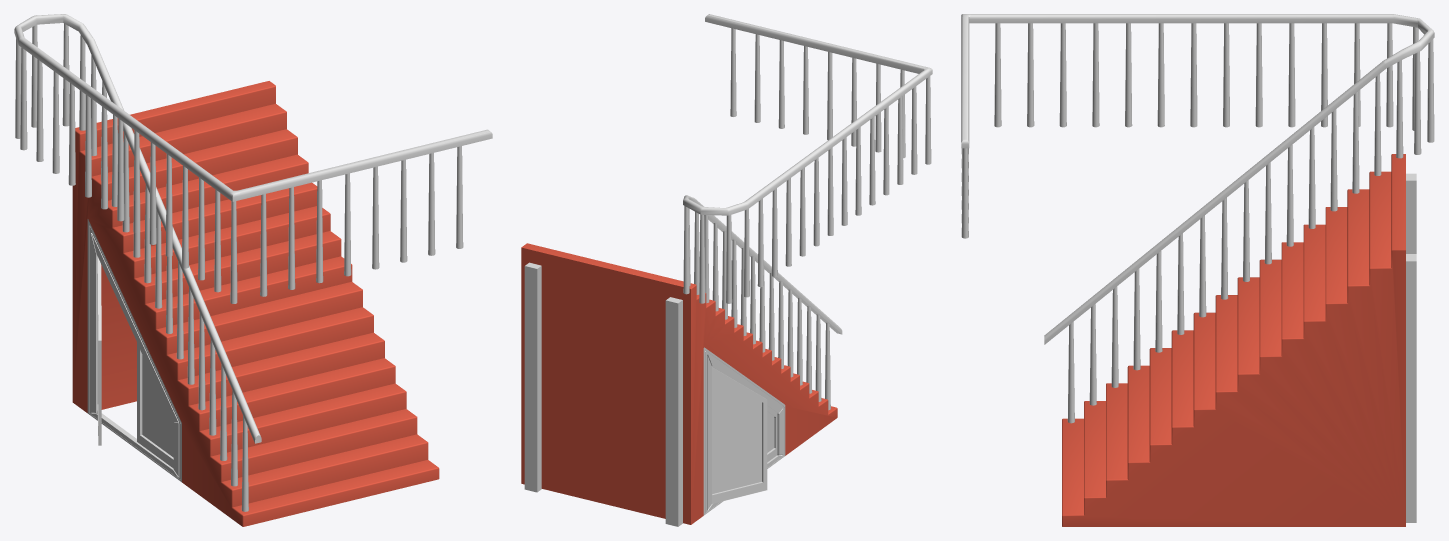
File: Stairs_model.fbx
3 renders of one model, left to right at view 1: azimuth 30°, elevation 25°; view 2: azimuth 150°, elevation 25°; view 3: azimuth 270°, elevation 25°, orthographic. The views are drawn at different scales.
Visible parts, largest first — view 1: Cylinder.003; view 2: Cylinder.003; view 3: Cylinder.003.
Part boxes in pixels (left/top/right/bottom): Cylinder.003: left=14, top=14, right=492, bottom=526; Cylinder.003: left=521, top=14, right=932, bottom=526; Cylinder.003: left=961, top=14, right=1434, bottom=526.
Size of the model in its own units: 2.64 by 3.73 by 4.13.
